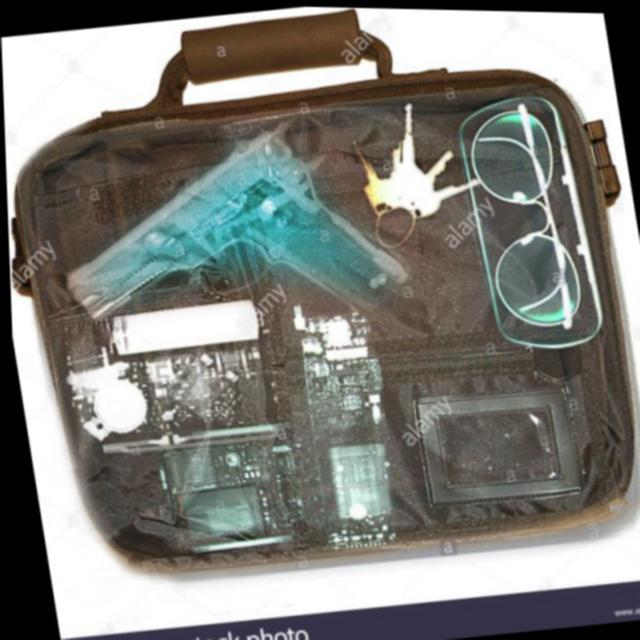weapon: (343, 92, 488, 251)
